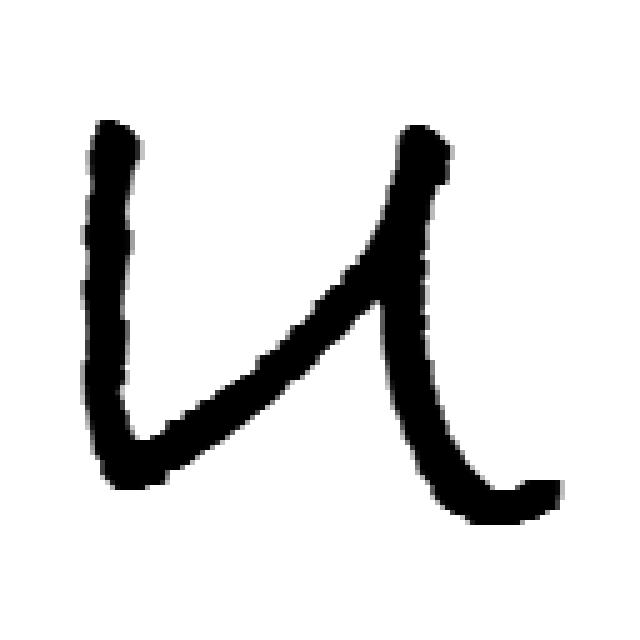U: (70, 110, 565, 530)
